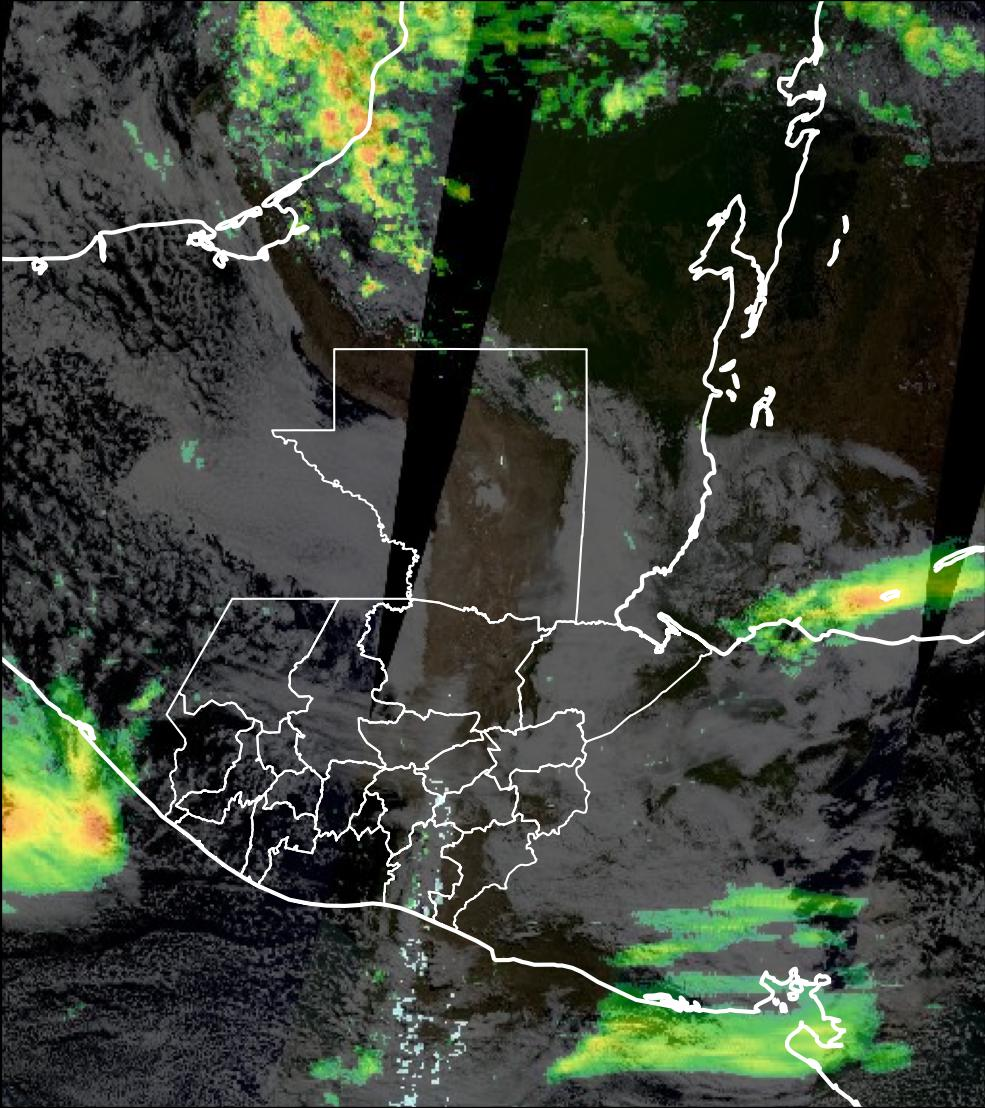precipitacion: (1, 763, 117, 876), (799, 580, 917, 634)
